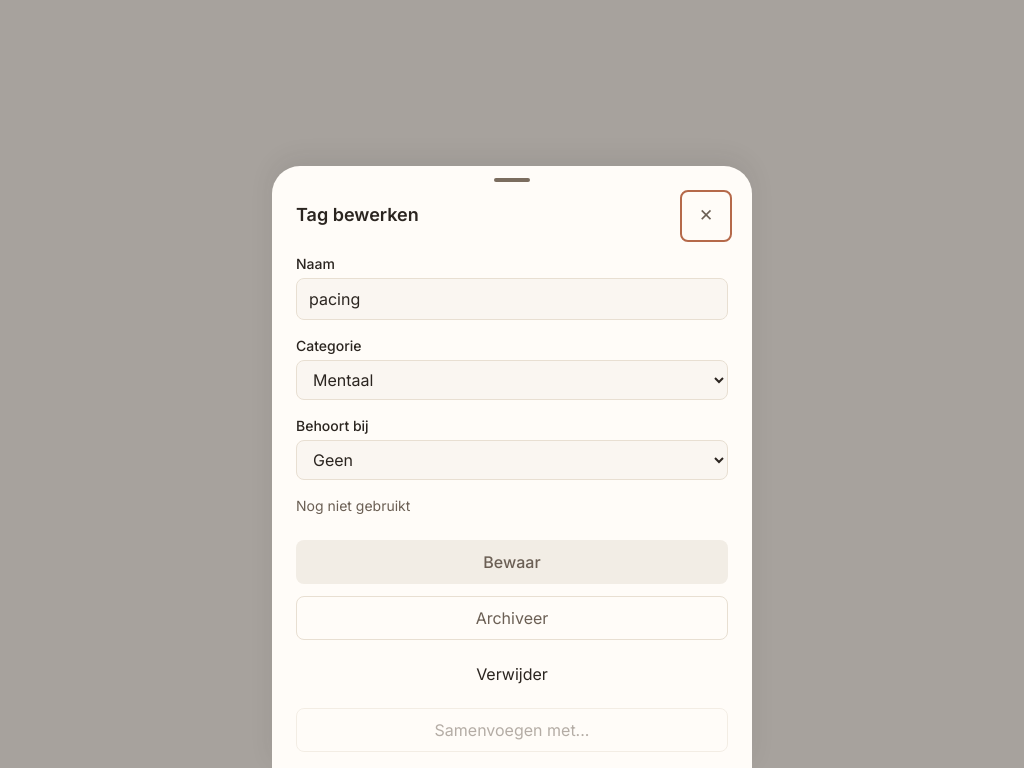
Scenario: <TagFormSheet /> › Tapping enabled Verwijder opens the inline confirm alertdialog
Click the button "Verwijder" at point(512, 674), box [296,652,728,696]
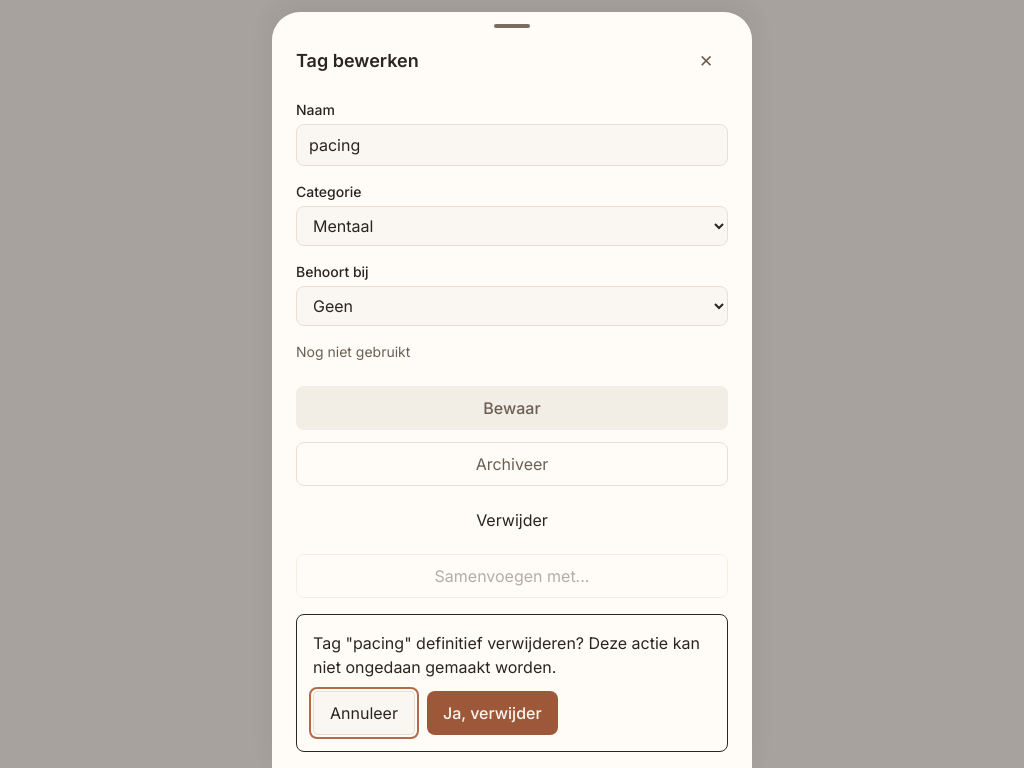
Expected: the dialog is shown, [296,614,728,752]
